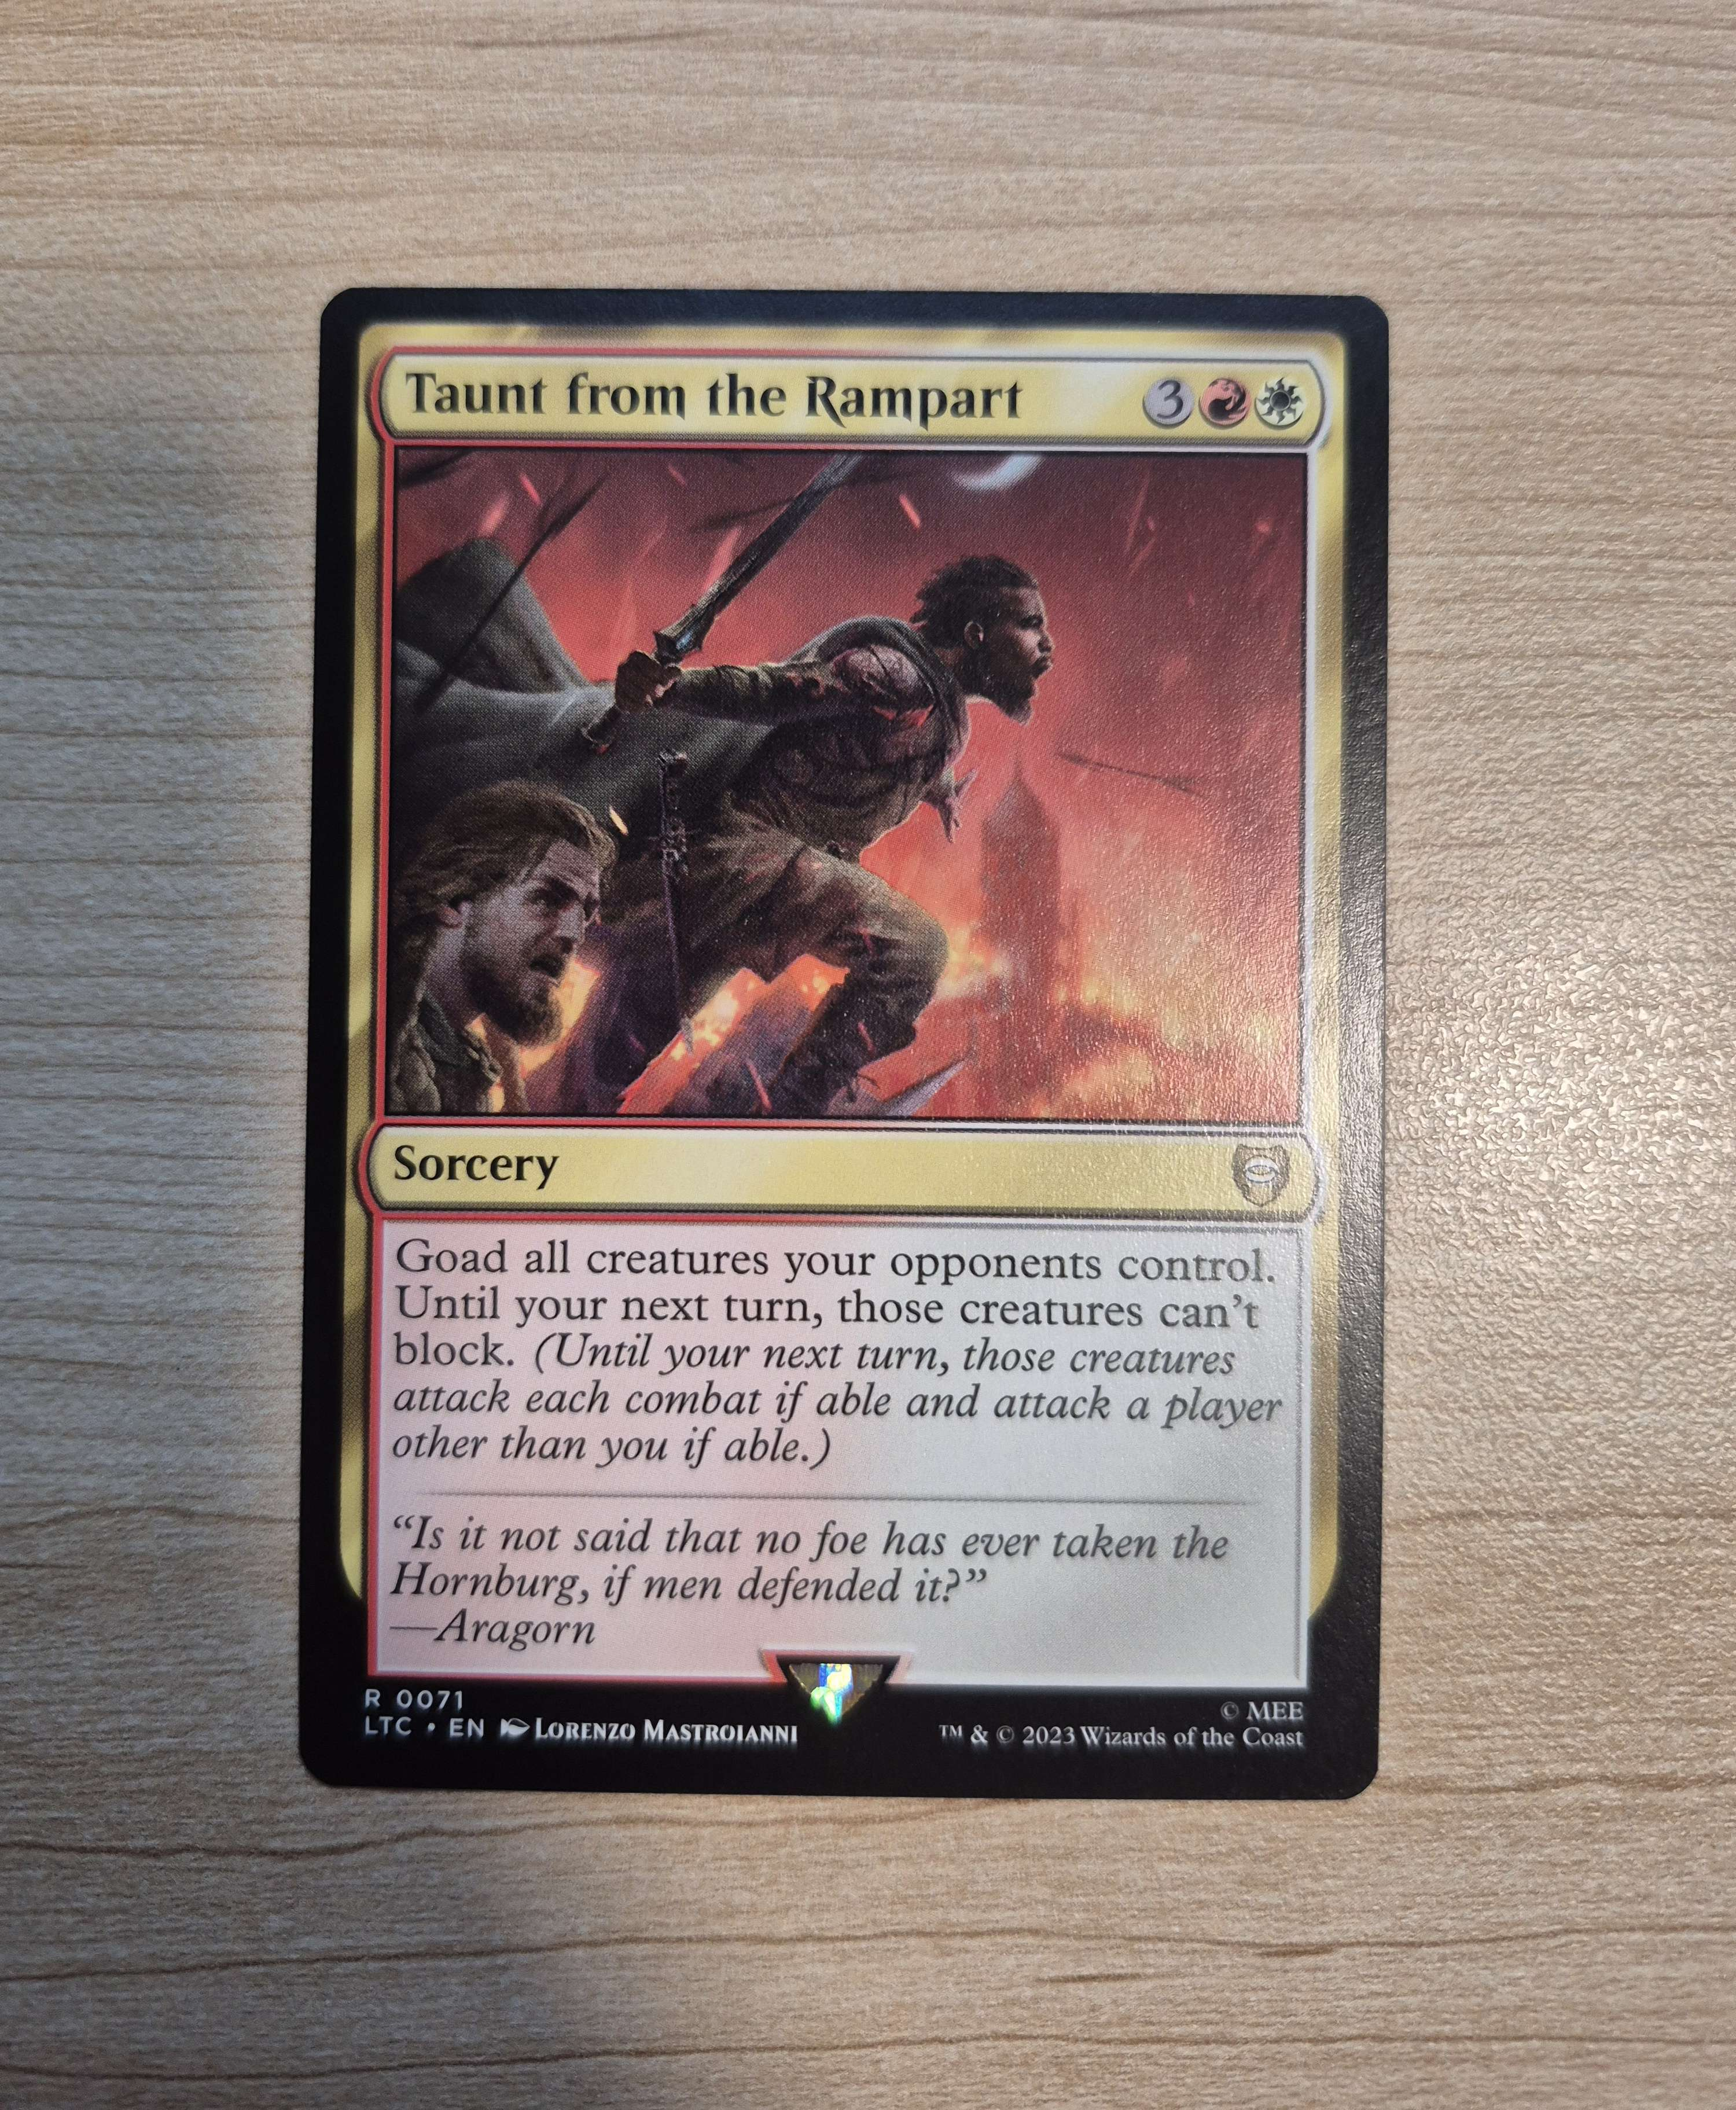mtg_card: (282, 252, 1408, 1828)
